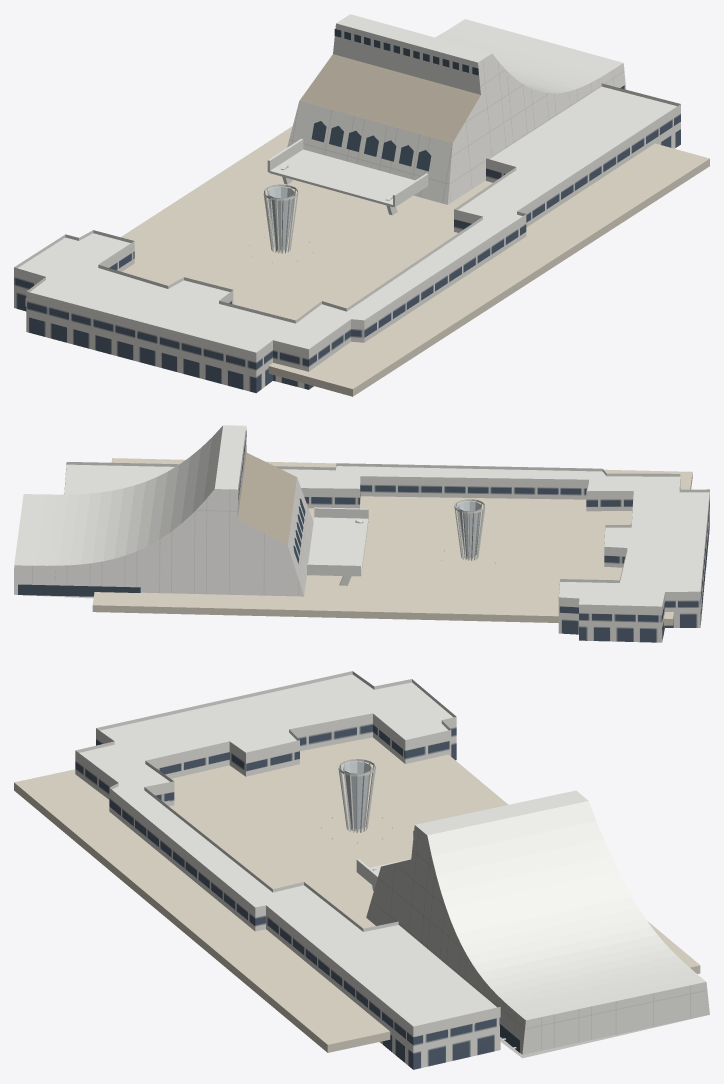
Rendered from cicb.glb.
3 views of the same model, one above another, from view 1: azimuth 30°, elevation 25°; view 2: azimuth 150°, elevation 25°; view 3: azimuth 270°, elevation 25° (orthographic). The views are drawn at different scales.
Parts seen in each view (by area): view 1: CICB, CICB_Hall, CICB_Fontaine; view 2: CICB, CICB_Hall, CICB_Fontaine; view 3: CICB, CICB_Hall, CICB_Fontaine.
Part boxes in pixels (<box>): CICB: <box>14,83,709,396</box>; CICB_Hall: <box>287,14,626,204</box>; CICB_Fontaine: <box>249,184,313,262</box>; CICB: <box>64,458,709,642</box>; CICB_Hall: <box>14,425,313,598</box>; CICB_Fontaine: <box>441,499,498,569</box>; CICB: <box>14,671,700,1069</box>; CICB_Hall: <box>366,790,709,1058</box>; CICB_Fontaine: <box>321,759,392,843</box>.
Size of the model in its own units: 0.35 by 0.0647 by 0.2895.
Materials: 3 (3 with a texture image).
